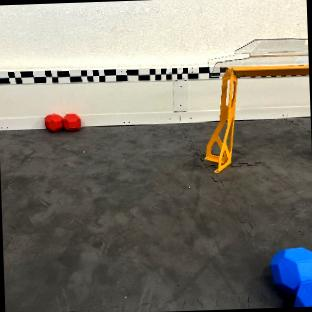Goal: (206, 38, 309, 171)
V5_BLUE: (271, 248, 312, 307)
V5_RED: (43, 113, 81, 132)
